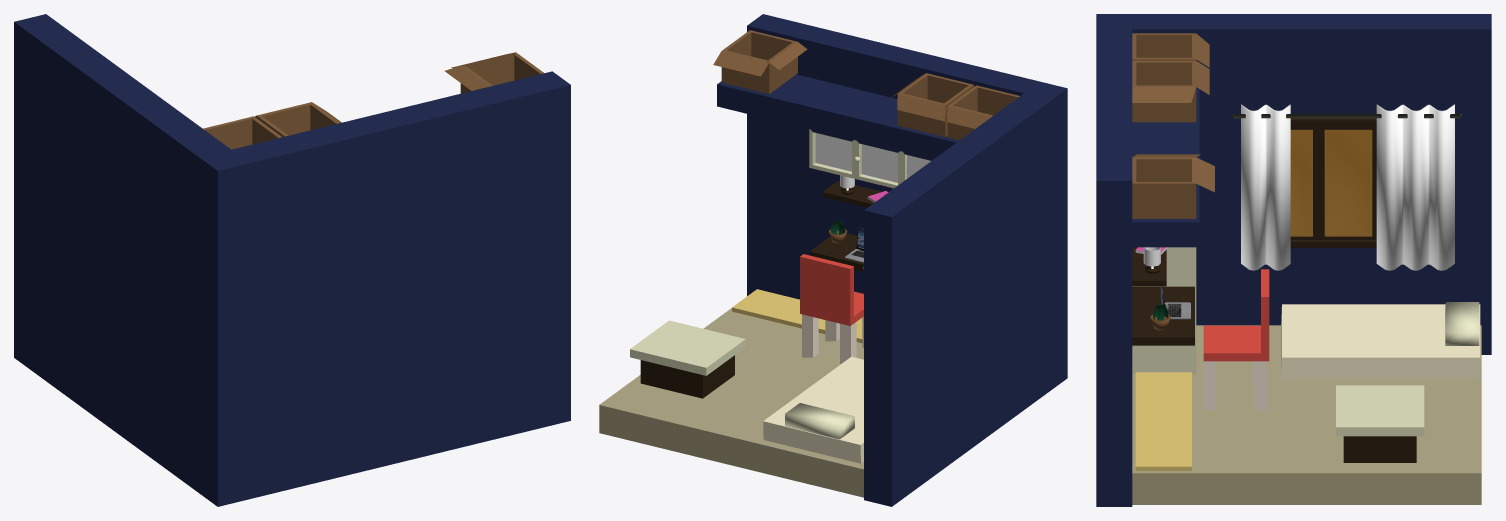
The picture shows the model from 3 angles, left to right: view 1: azimuth 30°, elevation 25°; view 2: azimuth 150°, elevation 25°; view 3: azimuth 270°, elevation 25°; orthographic projection. The views are drawn at different scales.
Parts seen in each view (by area): view 1: Cube, Cube009; view 2: Cube, Plane, Cube009, Cube001, Plane005, Plane006, Cube008_2, Plane002, Plane001, Cube003, Plane003, Cube008_1 (+2 smaller); view 3: Cube, Plane, curtain, Cube001, Cube009, Cube008, Plane001, Plane005, Cube005, Cube008_1, Cube015, Plane006 (+5 smaller).
Part boxes in pixels (x1,y1,x2,y2): Cube: (14,14,570,506); Cube009: (203,52,544,149); Cube: (717,14,1067,506); Plane: (599,308,863,497); Cube009: (713,30,1019,140); Cube001: (763,356,863,463); Plane005: (630,320,745,375); Plane006: (800,254,863,325); Cube008_2: (815,133,930,182); Plane002: (640,355,734,398); Plane001: (732,289,862,343); Cube003: (785,403,854,439); Plane003: (802,314,863,363); Cube008_1: (809,129,906,188); Cube: (1096,14,1491,506); Plane: (1132,325,1481,504); curtain: (1241,104,1454,270); Cube001: (1281,304,1480,378); Cube009: (1132,33,1214,218); Cube008: (1290,130,1372,236); Plane001: (1135,372,1191,470); Plane005: (1336,385,1424,436); Cube005: (1290,118,1376,247); Cube008_1: (1132,247,1196,374); Cube015: (1132,286,1194,345); Plane006: (1203,269,1269,361).
Bounding box in the file's own units: 4.52 × 4.14 × 4.52.
29 materials, 4 textured.
